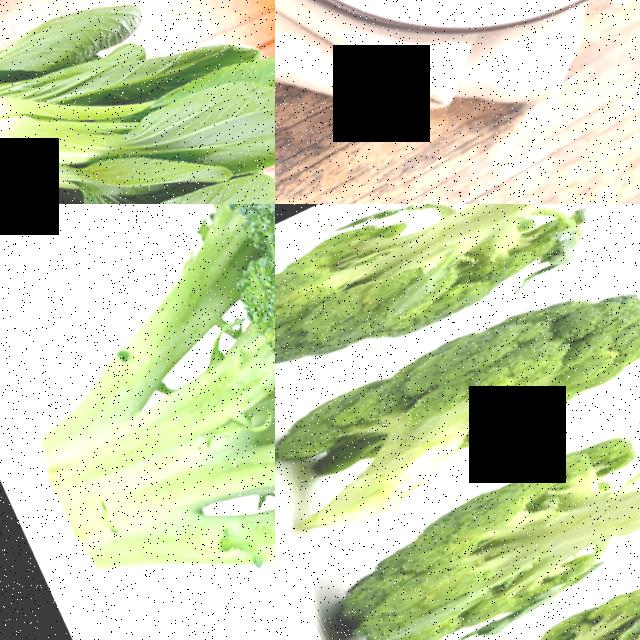bok choy: (0, 48, 253, 204), (0, 100, 177, 204)
broccoli: (275, 215, 640, 586), (0, 204, 275, 640), (302, 356, 640, 640), (275, 204, 640, 416), (332, 489, 640, 640)
